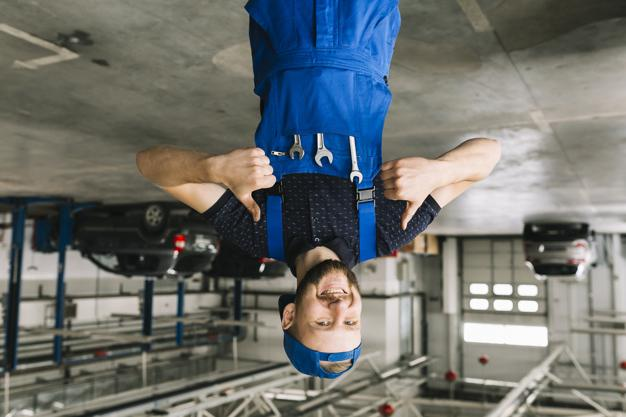thumbsdown: (240, 147, 277, 222), (381, 159, 417, 231)
